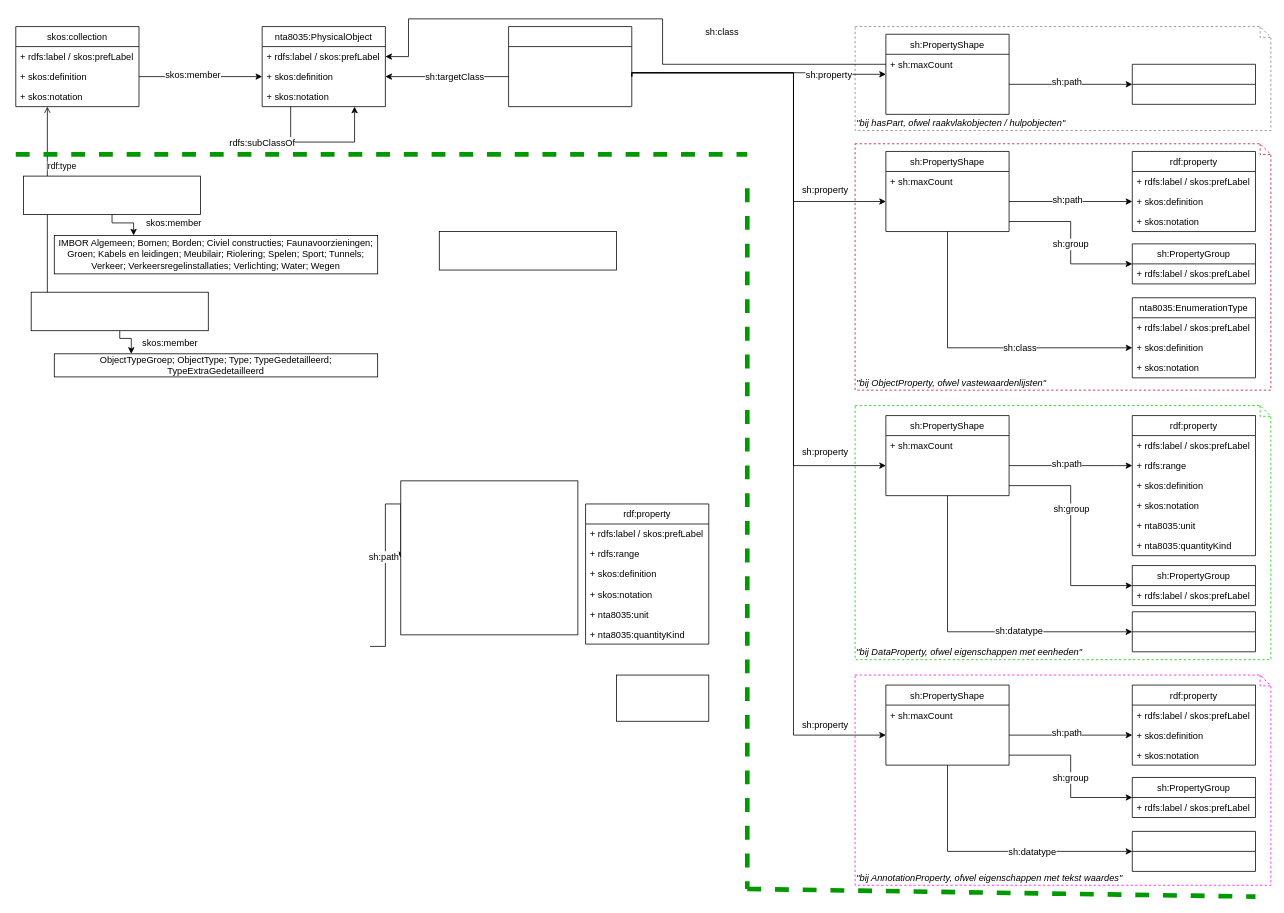
Some shapes in this 1284 by 913 pixel diagram are drawn without their labels. The centre of each missing label's shape, as x and y in pixels:
groep:IMBORHierarchischeCollectie: the point at 119,311
groep:IMBORVakdisciplineCollectie: the point at 112,195
groep:versie***: the point at 527,250
nta8035:hasPart: the point at 1193,84
rdf:_1 rdf:_2: the point at 489,557
rdf:value: the point at 662,697
sh:NodeShape: the point at 570,66
xsd:... (float, decimal, etc.): the point at 1193,631
xsd:string: the point at 1193,851
